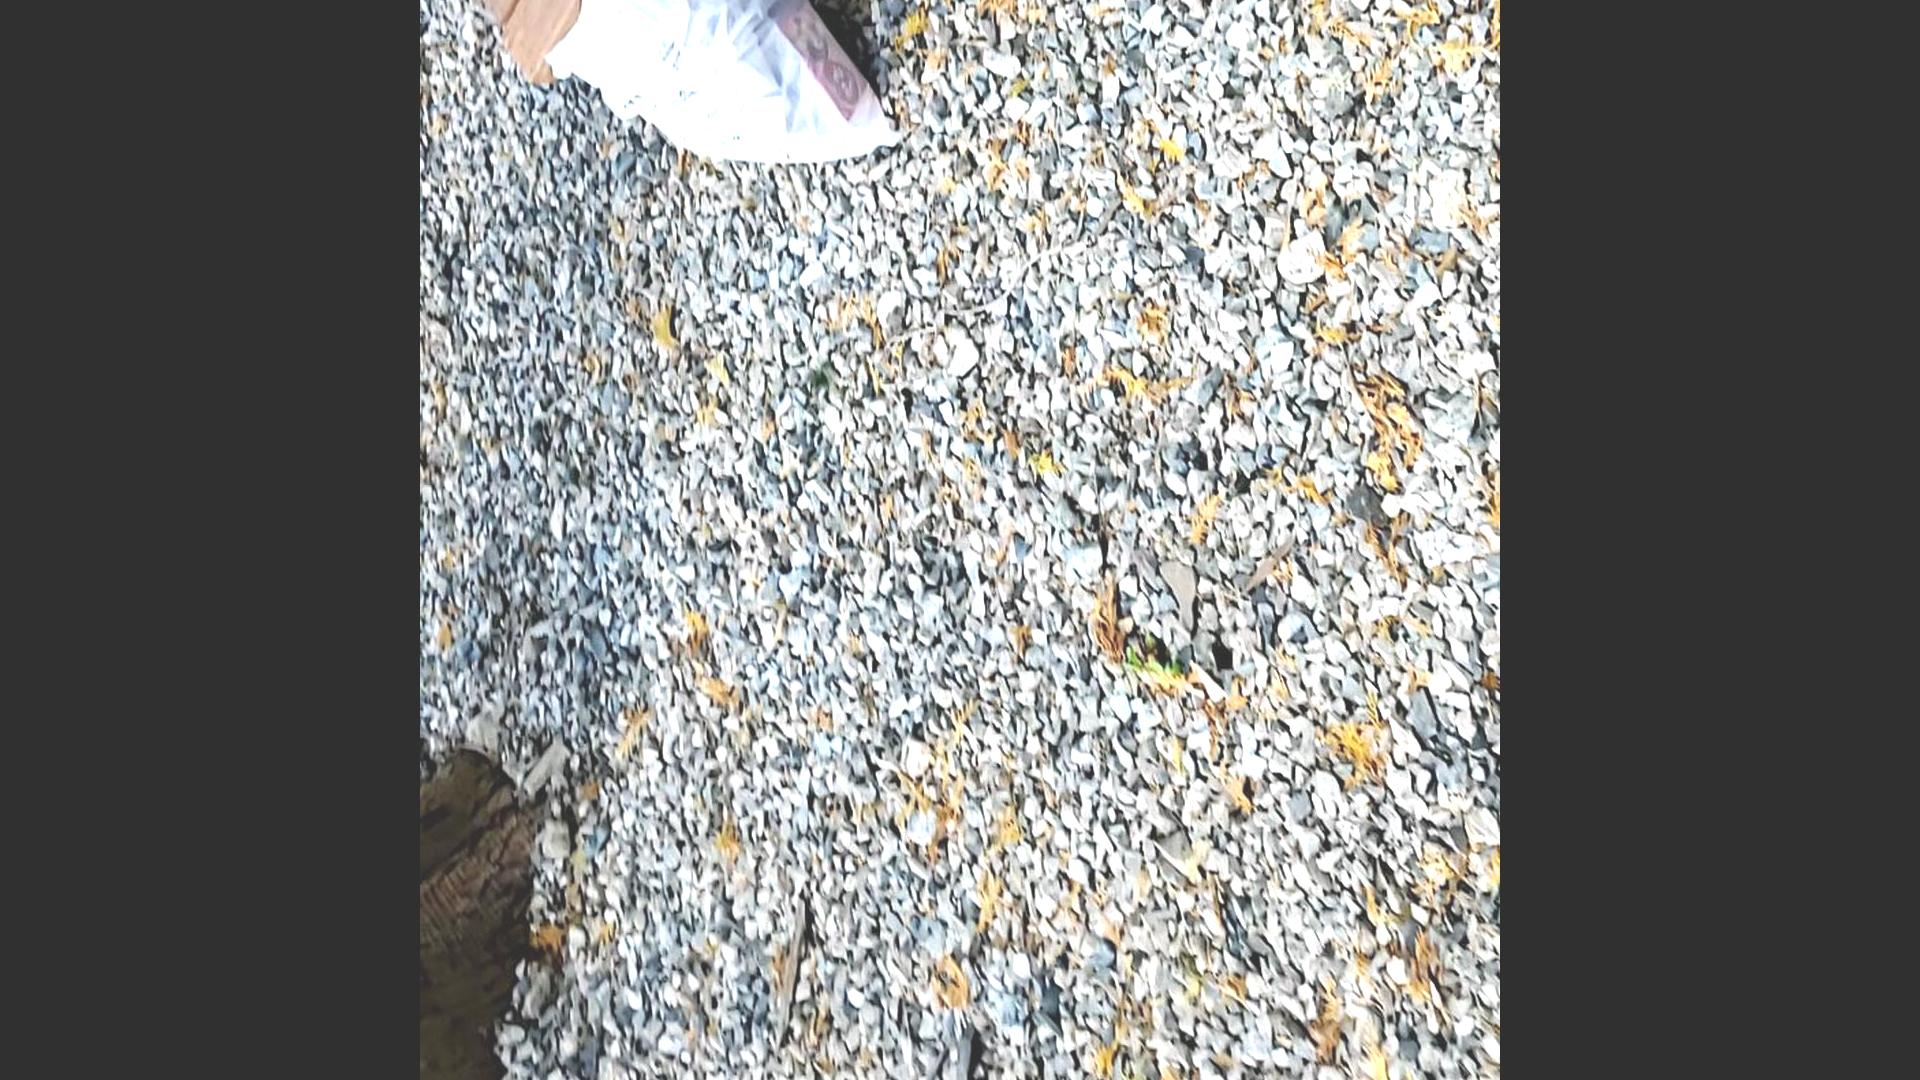white_bag: (499, 0, 909, 182)
